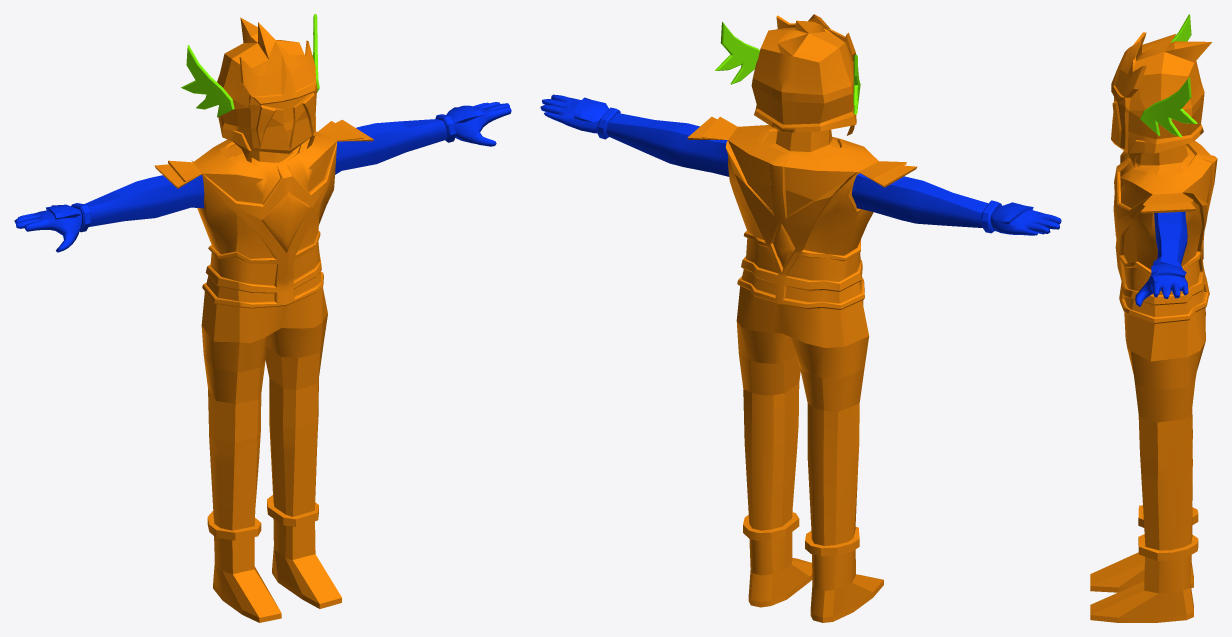
File: Solis-FBX_Final uv corregido.fbx
The picture shows the model from 3 angles, left to right: view 1: azimuth 30°, elevation 25°; view 2: azimuth 150°, elevation 25°; view 3: azimuth 270°, elevation 25°; orthographic projection. The views are drawn at different scales.
Visible parts, largest first — view 1: Knight, Hand_L, Hand_R, Wing; view 2: Knight, Hand_L, Hand_R, Wing; view 3: Knight, Hand_R, Wing.
Boxes of the visible parts, bbox=[...] form: Knight: bbox=[155, 17, 373, 622]; Hand_L: bbox=[14, 175, 204, 252]; Hand_R: bbox=[335, 102, 511, 174]; Wing: bbox=[181, 14, 319, 117]; Knight: bbox=[687, 14, 916, 622]; Hand_L: bbox=[852, 173, 1061, 235]; Hand_R: bbox=[540, 94, 729, 176]; Wing: bbox=[715, 22, 860, 114]; Knight: bbox=[1090, 32, 1217, 622]; Hand_R: bbox=[1135, 211, 1188, 306]; Wing: bbox=[1140, 14, 1197, 137].
Bounding box in the file's own units: 346 × 376 × 76.46.
